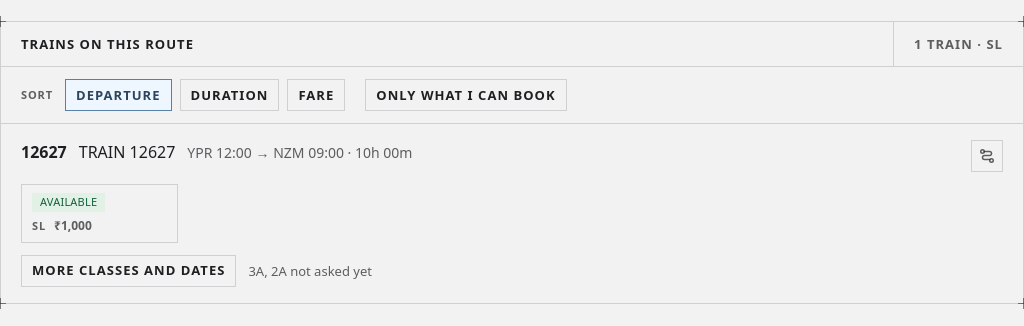
Scenario: opening a row › says a class could not be answered rather than leaving it out
Click the button "More classes and dates" at (129,270), box x1=21 y1=254 x2=236 y2=286
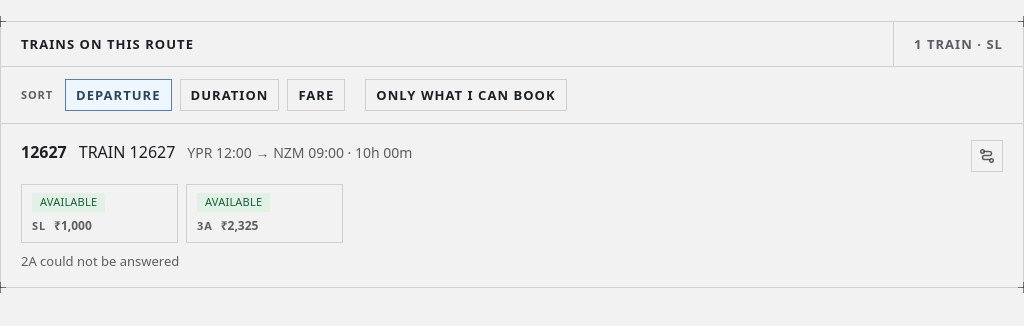
Check: the text "2A could not be answered" is shown, box x1=21 y1=252 x2=179 y2=270
